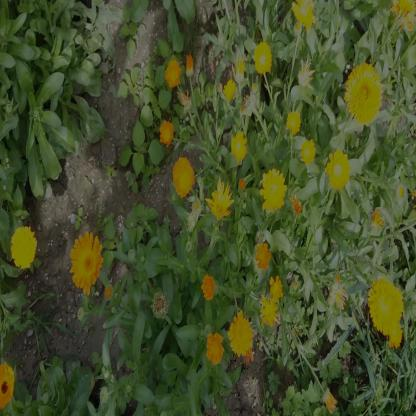marigold: (344, 64, 381, 124), (70, 234, 103, 291), (370, 277, 403, 333), (262, 167, 287, 213), (10, 227, 36, 270), (207, 182, 233, 224), (326, 149, 350, 192), (230, 315, 252, 356), (173, 157, 193, 197), (260, 290, 280, 329), (292, 0, 314, 31), (0, 362, 15, 406), (205, 333, 224, 364), (255, 40, 272, 72), (230, 132, 247, 162), (165, 60, 181, 86), (202, 274, 216, 301), (255, 244, 271, 267), (160, 120, 174, 143), (287, 112, 301, 134), (389, 325, 402, 348), (302, 139, 314, 162)
